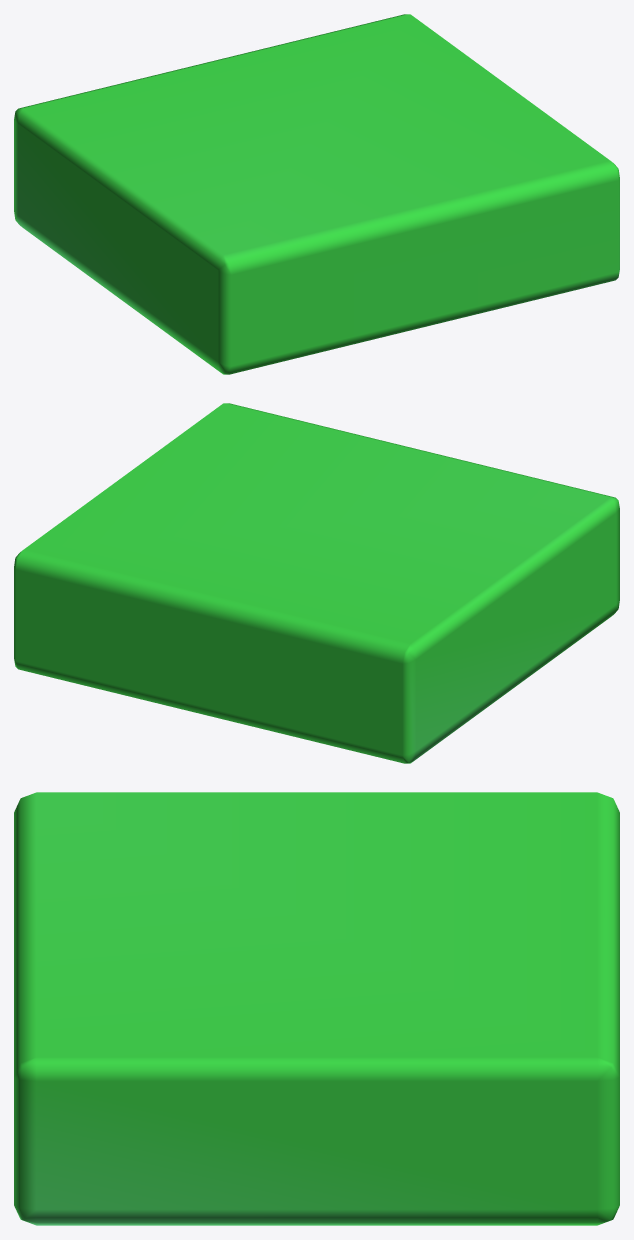
Rendered from platform2.glb.
3 renders of one model, top to bottom at view 1: azimuth 30°, elevation 25°; view 2: azimuth 150°, elevation 25°; view 3: azimuth 270°, elevation 25°, orthographic. The views are drawn at different scales.
Visible parts, largest first — view 1: platform; view 2: platform; view 3: platform.
Part boxes in pixels (box(x1,y1,x2,y2)): platform: box(14, 14, 619, 374); platform: box(14, 403, 619, 763); platform: box(14, 792, 619, 1225).
Bounding box in the file's own units: 1.68 × 0.4836 × 1.58.
